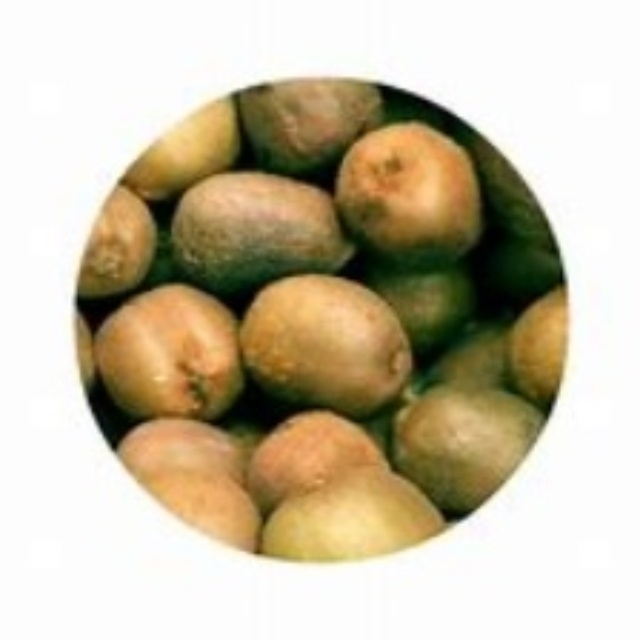kiwi: (122, 411, 450, 567), (374, 322, 588, 523), (103, 277, 252, 428), (181, 162, 353, 292), (250, 273, 409, 408), (344, 120, 475, 265)
